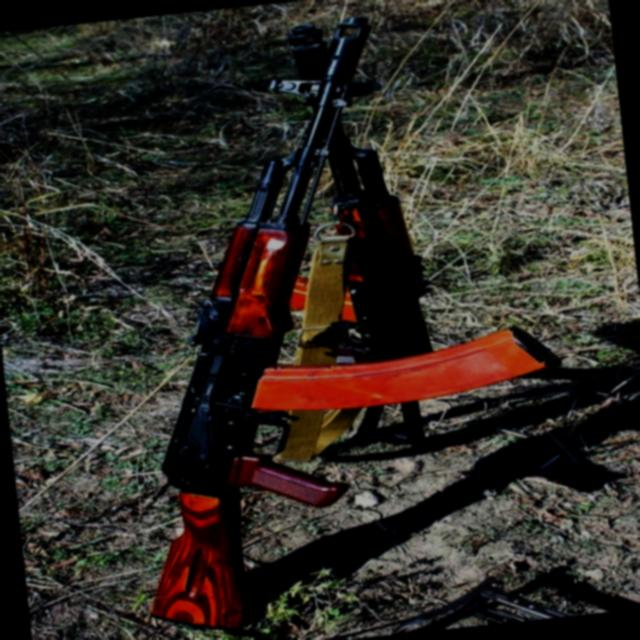ak: (86, 0, 577, 640)
